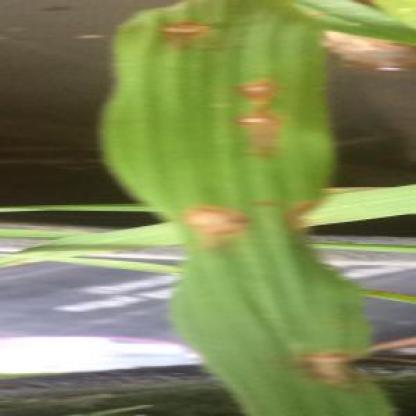Rice blast: (224, 50, 288, 159), (305, 346, 359, 398), (186, 209, 247, 241), (161, 18, 219, 43), (291, 191, 323, 231)
